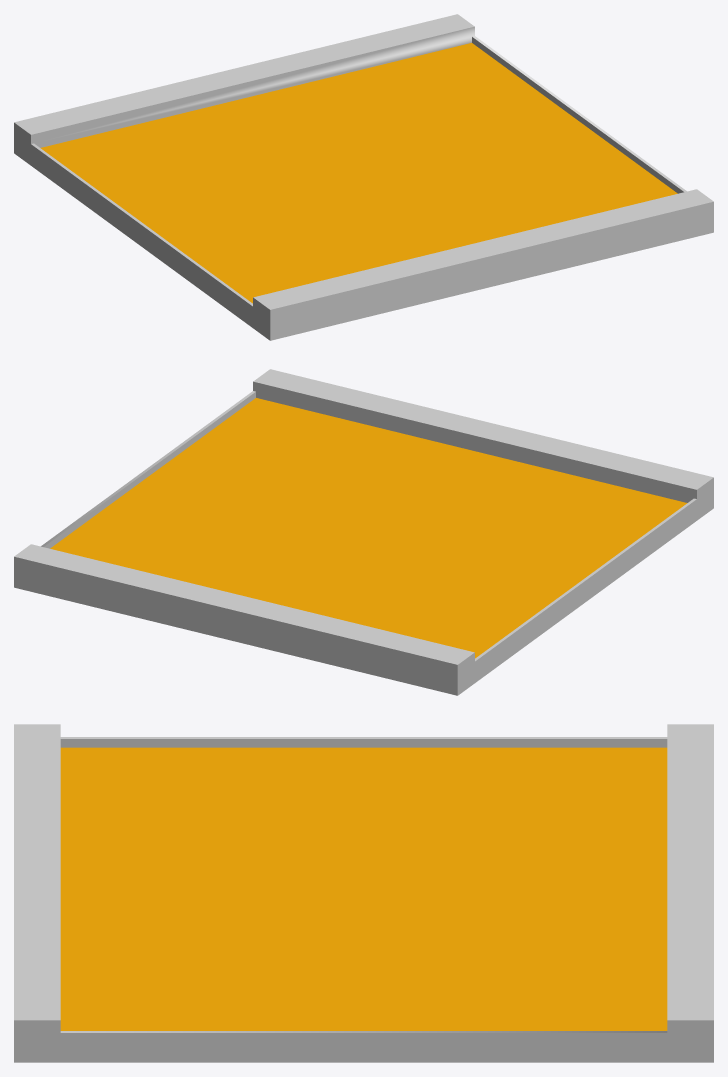
The picture shows the model from 3 angles, top to bottom: view 1: azimuth 30°, elevation 25°; view 2: azimuth 150°, elevation 25°; view 3: azimuth 270°, elevation 25°; orthographic projection. The views are drawn at different scales.
Visible parts, largest first — view 1: load; view 2: load; view 3: load.
Part boxes in pixels (left/top/right/bottom): load: left=14, top=14, right=713, bottom=340; load: left=14, top=369, right=713, bottom=695; load: left=14, top=724, right=713, bottom=1062.
Size of the model in its own units: 7500 by 500 by 7500.
